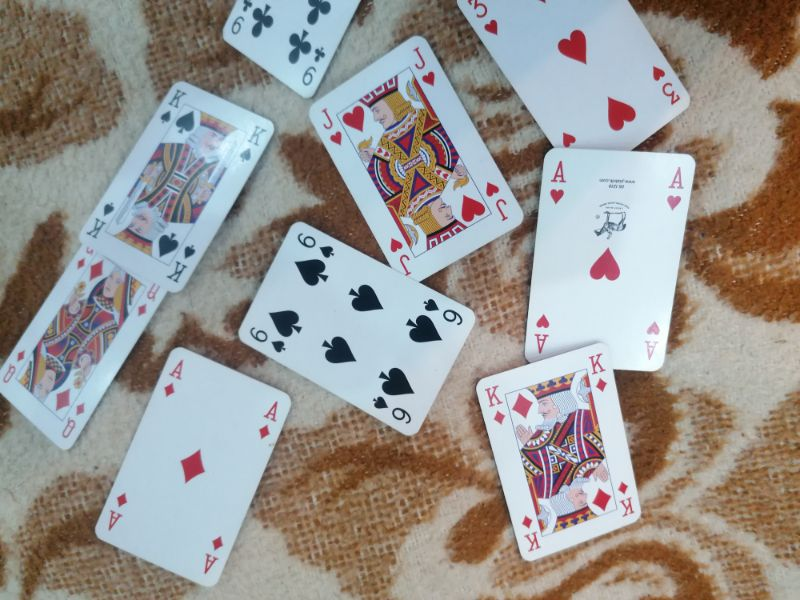3h: (645, 58, 689, 110), (463, 1, 510, 38)
6s: (287, 222, 337, 263), (244, 320, 296, 358), (369, 392, 419, 430), (419, 293, 467, 332)
9c: (297, 45, 330, 93), (227, 1, 256, 38)
Ad: (253, 390, 290, 445), (197, 529, 230, 581), (158, 350, 189, 404), (103, 487, 133, 535)
Ah: (662, 157, 692, 215), (543, 154, 575, 206), (527, 310, 557, 361), (638, 316, 667, 368)
Jh: (381, 230, 424, 285), (309, 103, 354, 151), (404, 41, 445, 90), (480, 175, 517, 227)
Kd: (582, 348, 619, 397), (478, 379, 512, 432), (611, 473, 643, 521), (516, 509, 548, 556)
Ks: (161, 236, 201, 290), (82, 199, 121, 247), (237, 120, 270, 168), (157, 79, 187, 126)
Qd: (55, 396, 93, 444), (132, 276, 166, 318), (1, 344, 30, 384)
